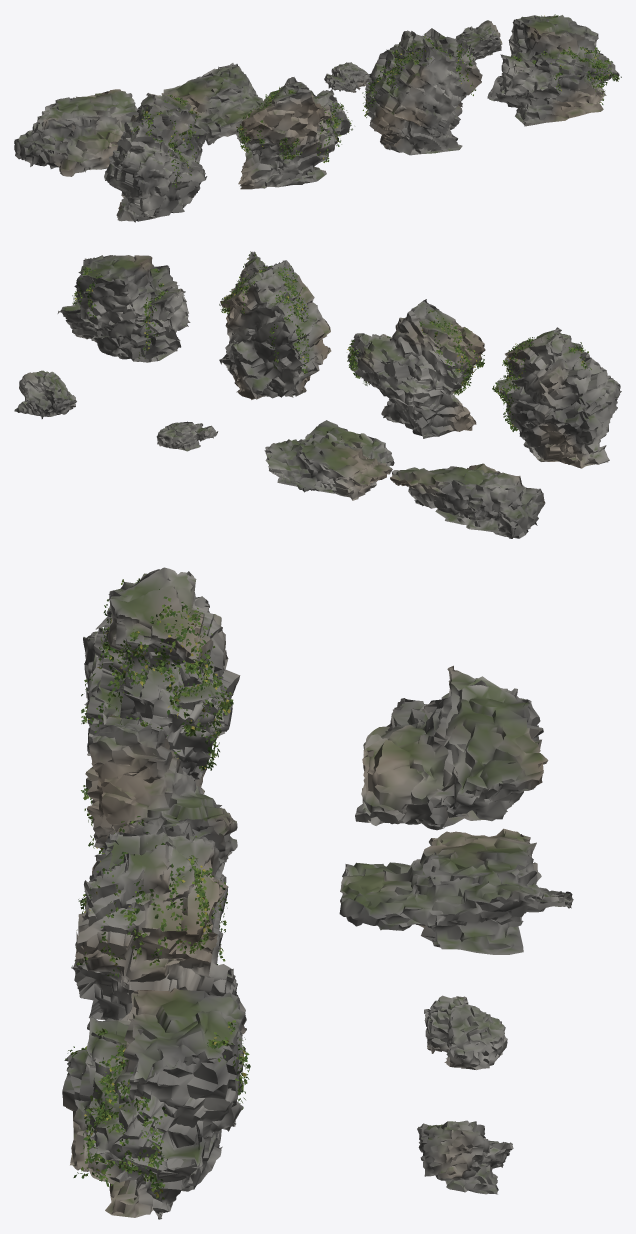
Rendered from rocks.glb.
3 views of the same model, one above another, from view 1: azimuth 30°, elevation 25°; view 2: azimuth 150°, elevation 25°; view 3: azimuth 270°, elevation 25° (orthographic). The views are drawn at different scales.
Visible parts, largest first — view 1: rock_2, rock_3, rock_0, rock_1, rock_4, rock_5, ivy_1, ivy_2, rock_7, rock_6, ivy_3, ivy_0; view 2: rock_0, rock_1, rock_2, rock_3, rock_4, rock_5, rock_7, ivy_2, rock_6, ivy_1, ivy_0, ivy_3; view 3: rock_3, rock_2, rock_4, rock_0, rock_5, rock_1, ivy_0, rock_7, rock_6, ivy_3, ivy_2.
Boxes of the visible parts, box(x1,y1,x2,y2) form: rock_2: box(365, 28, 482, 155); rock_3: box(487, 15, 619, 126); rock_0: box(104, 93, 207, 222); rock_1: box(235, 77, 350, 189); rock_4: box(14, 89, 138, 176); rock_5: box(161, 63, 263, 145); ivy_1: box(236, 87, 352, 162); ivy_2: box(362, 34, 475, 117); rock_7: box(455, 20, 502, 60); rock_6: box(324, 62, 369, 92); ivy_3: box(511, 14, 621, 104); ivy_0: box(131, 93, 200, 187); rock_0: box(496, 327, 621, 468); rock_1: box(348, 299, 485, 438); rock_2: box(219, 251, 331, 399); rock_3: box(57, 255, 190, 362); rock_4: box(390, 463, 545, 538); rock_5: box(264, 420, 394, 500); rock_7: box(14, 370, 76, 418); ivy_2: box(219, 252, 310, 373); rock_6: box(156, 421, 218, 451); ivy_1: box(347, 310, 484, 395); ivy_0: box(492, 336, 591, 431); ivy_3: box(72, 267, 168, 358); rock_3: box(62, 988, 245, 1219); rock_2: box(72, 829, 246, 1034); rock_4: box(355, 665, 548, 830); rock_0: box(83, 567, 240, 793); rock_5: box(339, 828, 573, 954); rock_1: box(85, 714, 237, 883); ivy_0: box(81, 578, 233, 770); rock_7: box(417, 1120, 513, 1194); rock_6: box(424, 995, 507, 1069); ivy_3: box(65, 1020, 250, 1199); ivy_2: box(71, 832, 227, 977).
Size of the model in its own units: 53.28 by 11.26 by 23.44.
